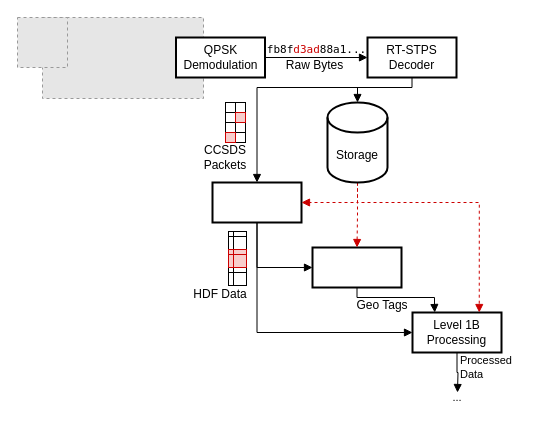
Image size: 536x430. Some labels were removed from this diagram. Grey dashed boxes stand in for pictures. The centre of each missing label's shape, as x and y in pixels:
"Level 1 GEO Processing" goes at [356,267].
"Level 1A Processing" goes at [256,202].
